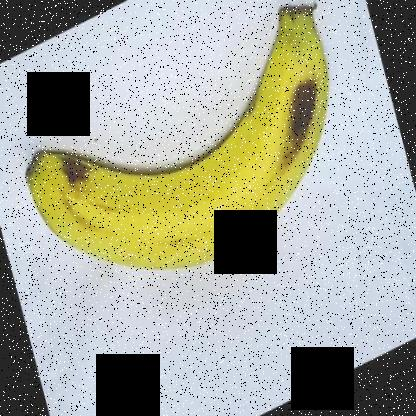freshripe: (11, 1, 336, 284)
